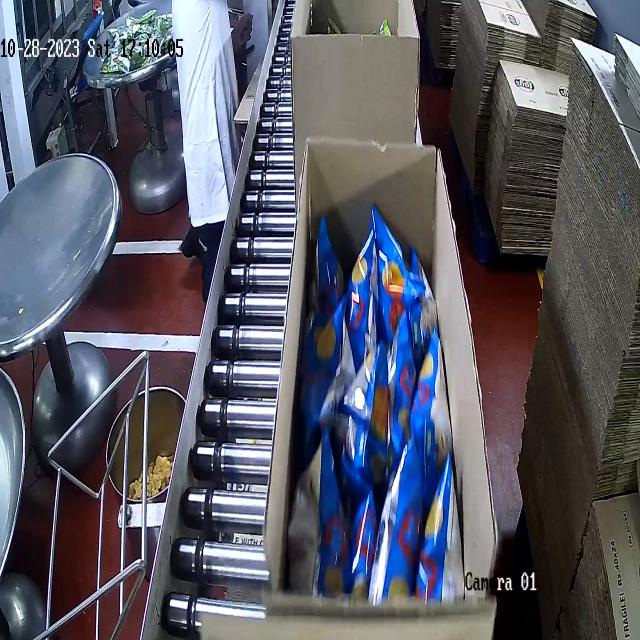PAPRIKA: (305, 229, 467, 614)
